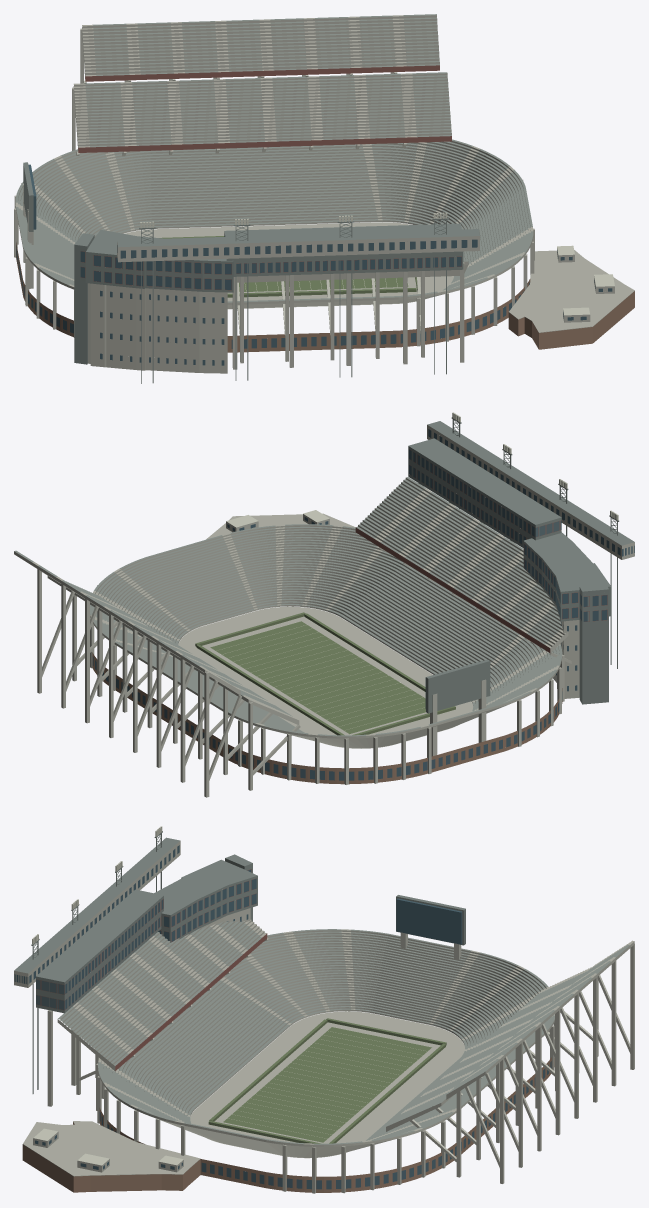
The model's file is sanford-stadium-near.glb.
The picture shows the model from 3 angles, top to bottom: view 1: azimuth 30°, elevation 25°; view 2: azimuth 150°, elevation 25°; view 3: azimuth 270°, elevation 25°; orthographic projection. The views are drawn at different scales.
Parts seen in each view (by area): view 1: sanford-stadium-0-concrete, sanford-stadium-0-seat, sanford-stadium-0-steel, sanford-stadium-0-glass, sanford-stadium-0-brick, sanford-stadium-0-red, sanford-stadium-0-turf, sanford-stadium-0-paint; view 2: sanford-stadium-0-concrete, sanford-stadium-0-seat, sanford-stadium-0-steel, sanford-stadium-0-turf, sanford-stadium-0-glass, sanford-stadium-0-brick, sanford-stadium-0-red, sanford-stadium-0-paint; view 3: sanford-stadium-0-concrete, sanford-stadium-0-seat, sanford-stadium-0-turf, sanford-stadium-0-steel, sanford-stadium-0-glass, sanford-stadium-0-brick, sanford-stadium-0-red, sanford-stadium-0-paint.
Boxes of the visible parts, x1,y1,x2,y2 form: sanford-stadium-0-concrete: [14, 15, 634, 373]; sanford-stadium-0-seat: [15, 14, 533, 302]; sanford-stadium-0-steel: [23, 162, 479, 383]; sanford-stadium-0-glass: [16, 164, 612, 365]; sanford-stadium-0-brick: [16, 242, 634, 352]; sanford-stadium-0-red: [78, 65, 461, 290]; sanford-stadium-0-turf: [159, 236, 417, 297]; sanford-stadium-0-paint: [140, 212, 614, 315]; sanford-stadium-0-concrete: [14, 425, 634, 797]; sanford-stadium-0-seat: [14, 477, 562, 736]; sanford-stadium-0-steel: [408, 417, 634, 713]; sanford-stadium-0-turf: [195, 612, 455, 735]; sanford-stadium-0-glass: [92, 429, 634, 780]; sanford-stadium-0-brick: [92, 652, 562, 784]; sanford-stadium-0-red: [355, 449, 607, 652]; sanford-stadium-0-paint: [214, 412, 618, 733]; sanford-stadium-0-concrete: [14, 841, 634, 1193]; sanford-stadium-0-seat: [58, 921, 629, 1144]; sanford-stadium-0-turf: [208, 1018, 446, 1143]; sanford-stadium-0-steel: [14, 831, 465, 1093]; sanford-stadium-0-glass: [14, 845, 551, 1189]; sanford-stadium-0-brick: [22, 1057, 554, 1192]; sanford-stadium-0-red: [36, 869, 267, 1070]; sanford-stadium-0-paint: [32, 826, 429, 1165].
Bounding box in the file's own units: 240 × 75 × 272.
